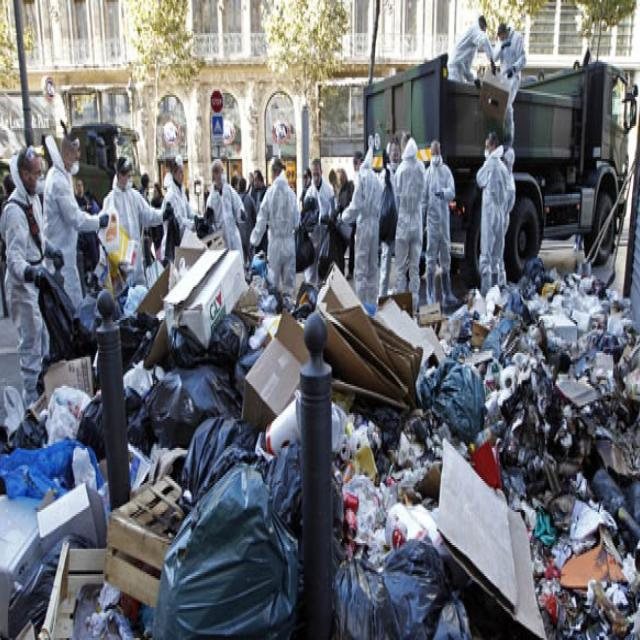garbage: (23, 276, 640, 640)
